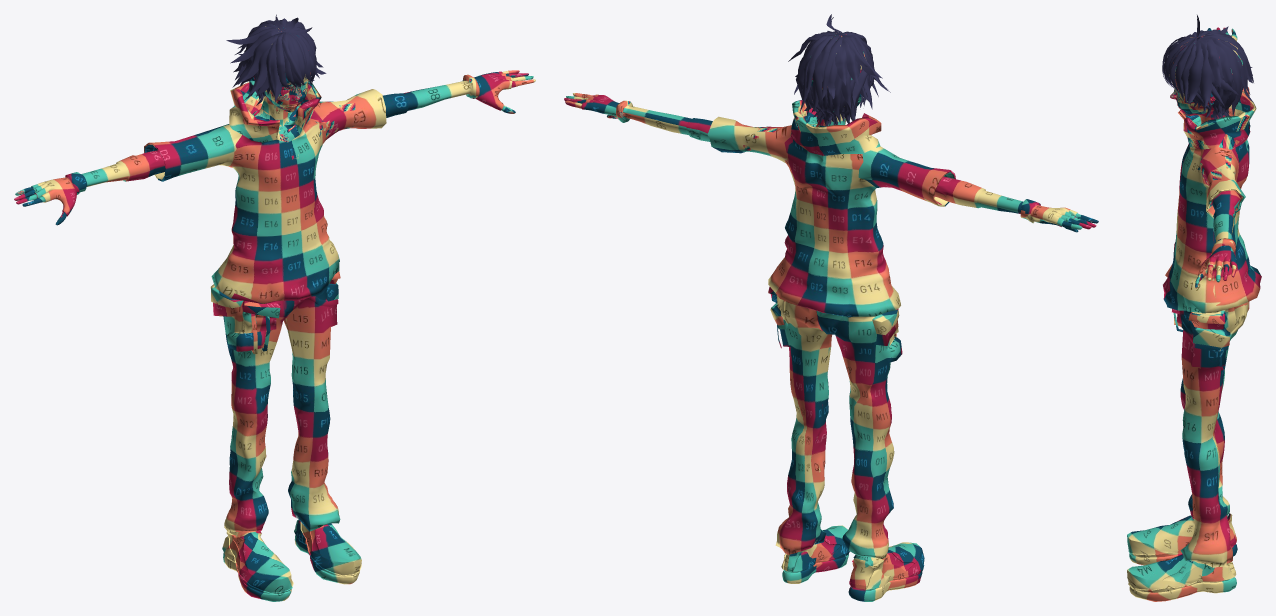
Rendered from AinFBX.fbx.
3 views of the same model, side by side, from view 1: azimuth 30°, elevation 25°; view 2: azimuth 150°, elevation 25°; view 3: azimuth 270°, elevation 25° (orthographic). The views are drawn at different scales.
Visible parts, largest first — view 1: Ain1; view 2: Ain1; view 3: Ain1, pPlane24, pPlane25, pasted__pPlane89, pPlane26, pPlane19, pPlane23, pPlane28, pasted__pPlane91, pPlane5.
Part boxes in pixels (<box>): Ain1: <box>14,26,535,601</box>; Ain1: <box>564,33,1098,601</box>; Ain1: <box>1127,27,1261,601</box>; pPlane24: <box>1188,39,1203,103</box>; pPlane25: <box>1198,39,1212,107</box>; pasted__pPlane89: <box>1199,37,1241,103</box>; pPlane26: <box>1199,38,1220,86</box>; pPlane19: <box>1175,39,1196,100</box>; pPlane23: <box>1181,39,1196,102</box>; pPlane28: <box>1215,44,1233,87</box>; pasted__pPlane91: <box>1200,34,1253,82</box>; pPlane5: <box>1165,37,1194,84</box>.
Size of the model in its own units: 193 by 199 by 43.4.
